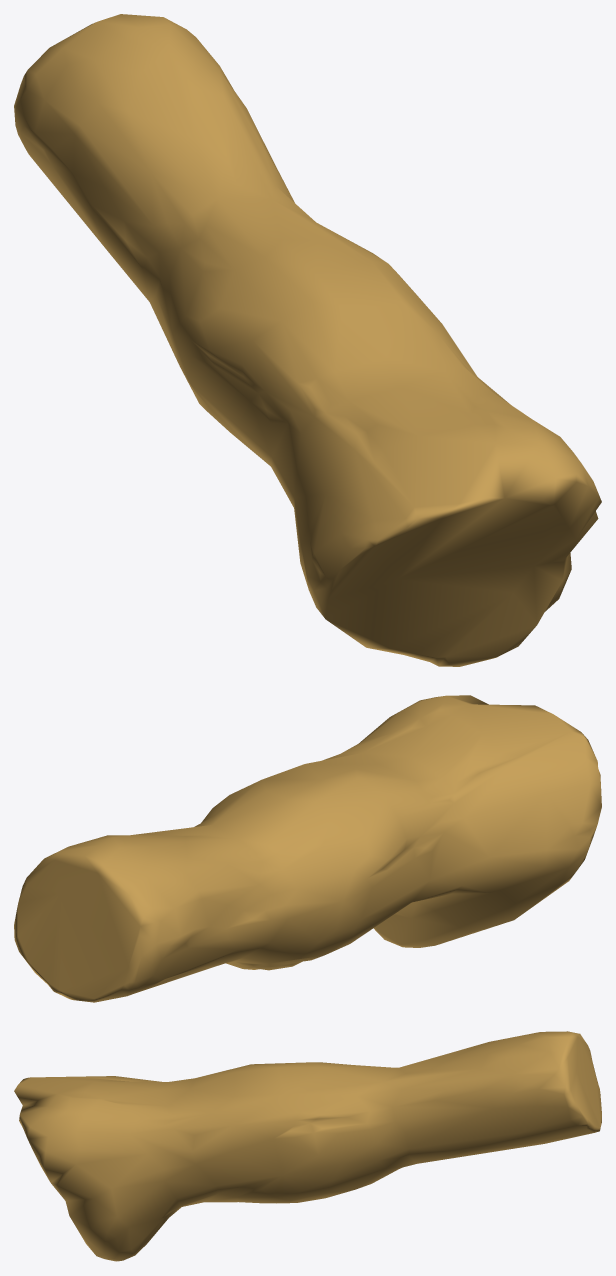
The picture shows the model from 3 angles, top to bottom: view 1: azimuth 30°, elevation 25°; view 2: azimuth 150°, elevation 25°; view 3: azimuth 270°, elevation 25°; orthographic projection. The views are drawn at different scales.
Parts seen in each view (by area): view 1: 右侧甲状舌骨外侧韧带; view 2: 右侧甲状舌骨外侧韧带; view 3: 右侧甲状舌骨外侧韧带.
Part boxes in pixels (x1,y1,x2,y2): 右侧甲状舌骨外侧韧带: (14, 14, 601, 666); 右侧甲状舌骨外侧韧带: (14, 695, 601, 1002); 右侧甲状舌骨外侧韧带: (14, 1031, 601, 1261).
Size of the model in its own units: 0.00533 by 0.00665 by 0.0156.
